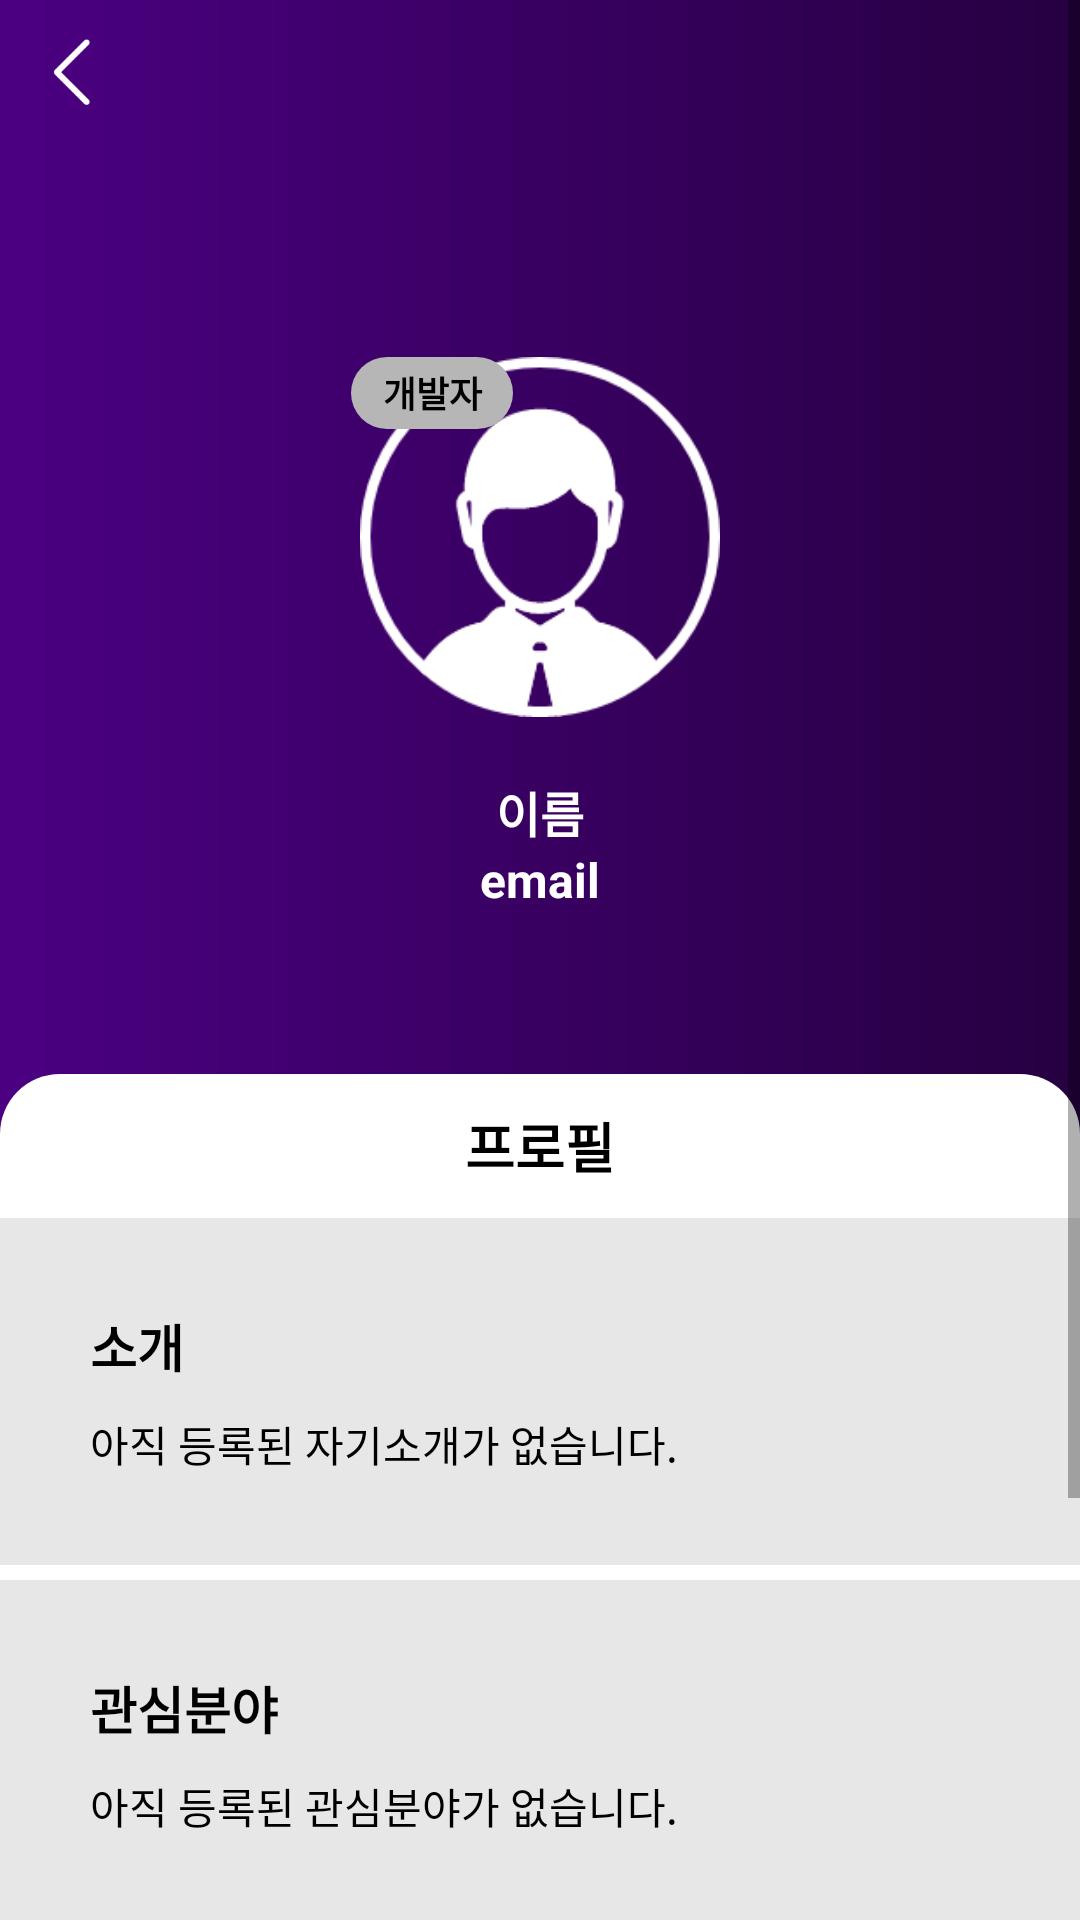

Icons on this 1080 × 1920 Android screen, each with its box as {"left": x1, "top": y1, "right": x2, "bottom": y2}:
back: {"left": 54, "top": 39, "right": 90, "bottom": 105}
trans profile: {"left": 360, "top": 357, "right": 720, "bottom": 717}
